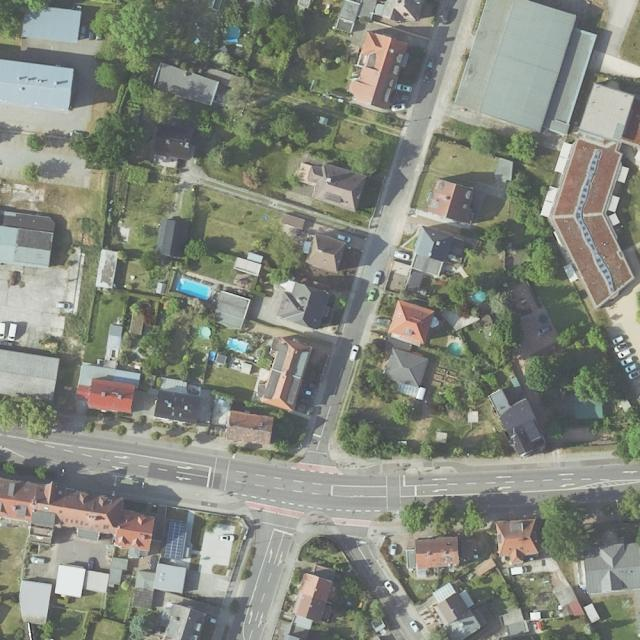PV: (164, 521, 186, 560)
